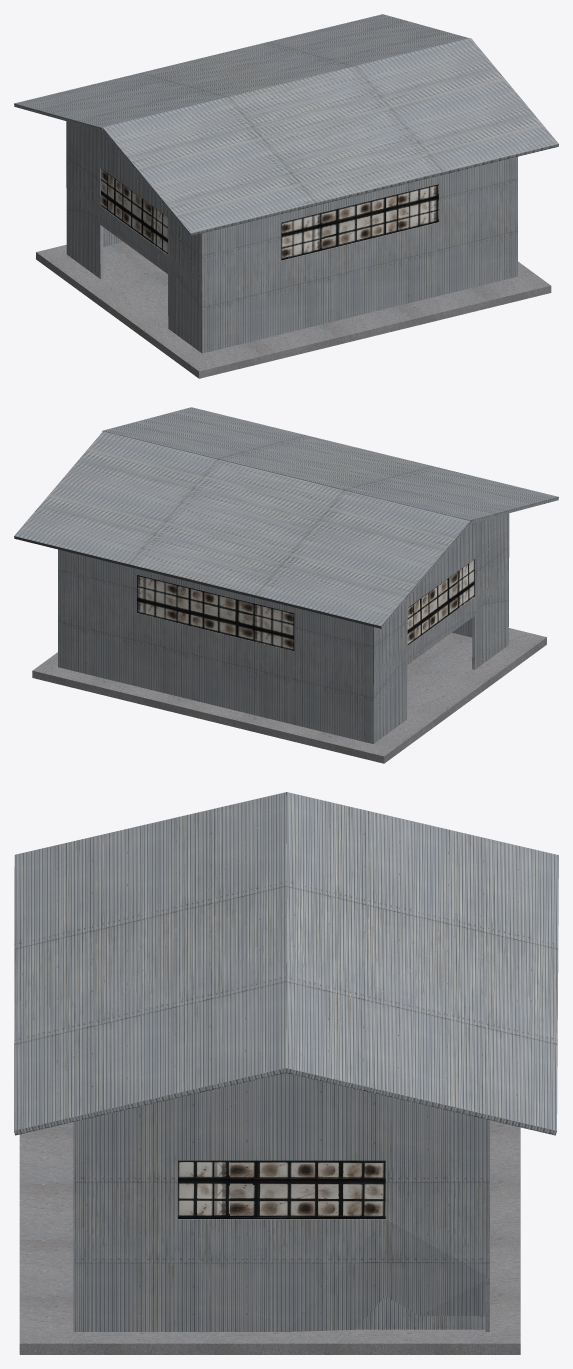
File: Almacens.fbx
3 views of the same model, one above another, from view 1: azimuth 30°, elevation 25°; view 2: azimuth 150°, elevation 25°; view 3: azimuth 270°, elevation 25° (orthographic). The views are drawn at different scales.
Parts seen in each view (by area): view 1: Cube_004, Cube_001, Cube_008, Cube_002, Cube_006, Cube_007; view 2: Cube_004, Cube, Cube_008, Cube_002, Cube_005, Cube_007; view 3: Cube_004, Cube_003, Cube_008, Cube_007.
Part boxes in pixels (x1,y1,x2,y2): Cube_004: (14,14,558,236); Cube_001: (202,156,517,353); Cube_008: (36,242,551,378); Cube_002: (66,121,202,352); Cube_006: (281,184,438,260); Cube_007: (100,168,167,254); Cube_004: (14,407,558,628); Cube: (58,549,373,743); Cube_008: (32,628,546,763); Cube_002: (373,513,509,743); Cube_005: (137,575,294,650); Cube_007: (407,559,474,645); Cube_004: (14,792,558,1135); Cube_003: (74,1073,489,1331); Cube_008: (19,1120,520,1354); Cube_007: (178,1160,385,1218).
Bounding box in the file's own units: 2294 × 1130 × 1911.
